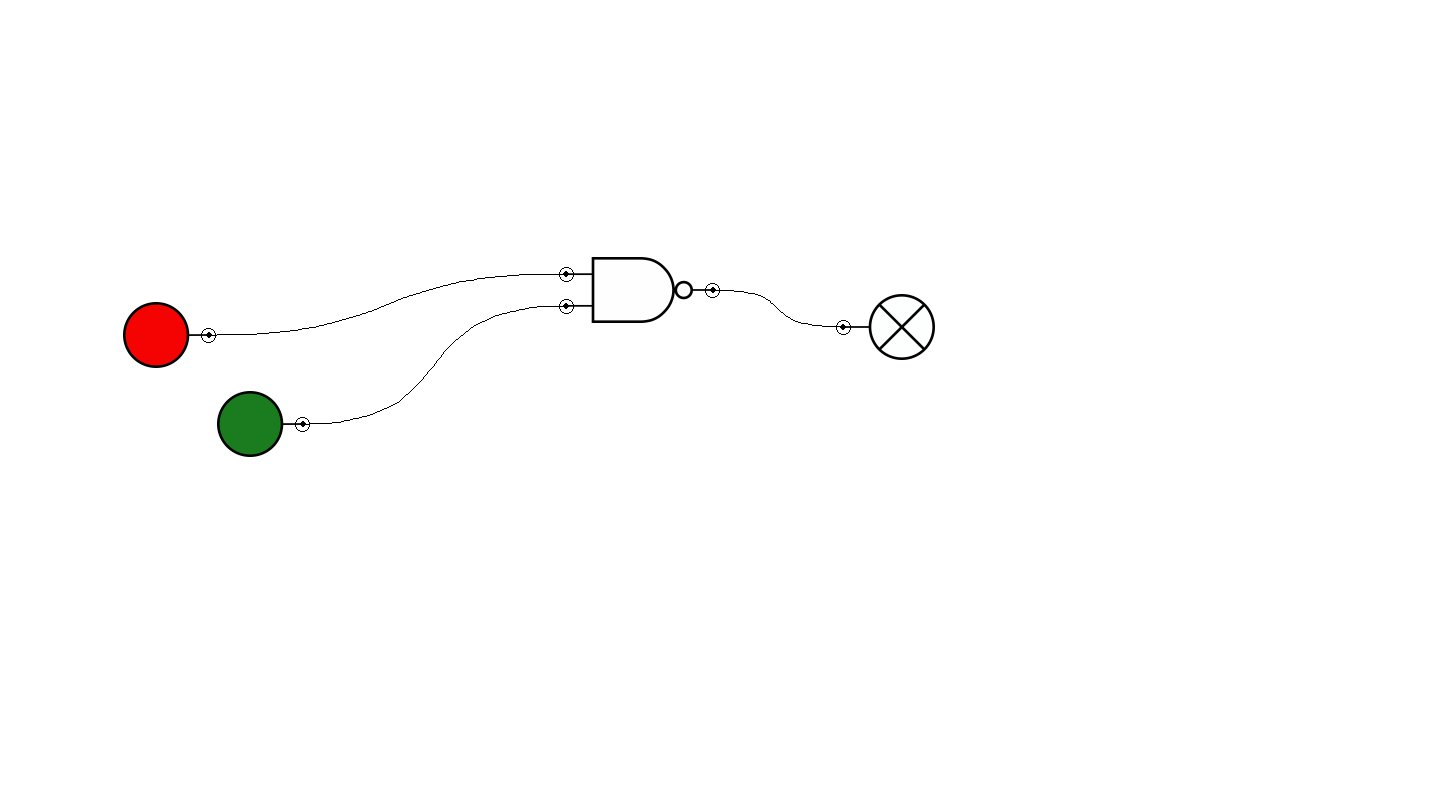bulb: (836, 294, 935, 360)
nand: (559, 257, 720, 323)
switch_False: (123, 302, 216, 368)
switch_True: (217, 391, 310, 457)
